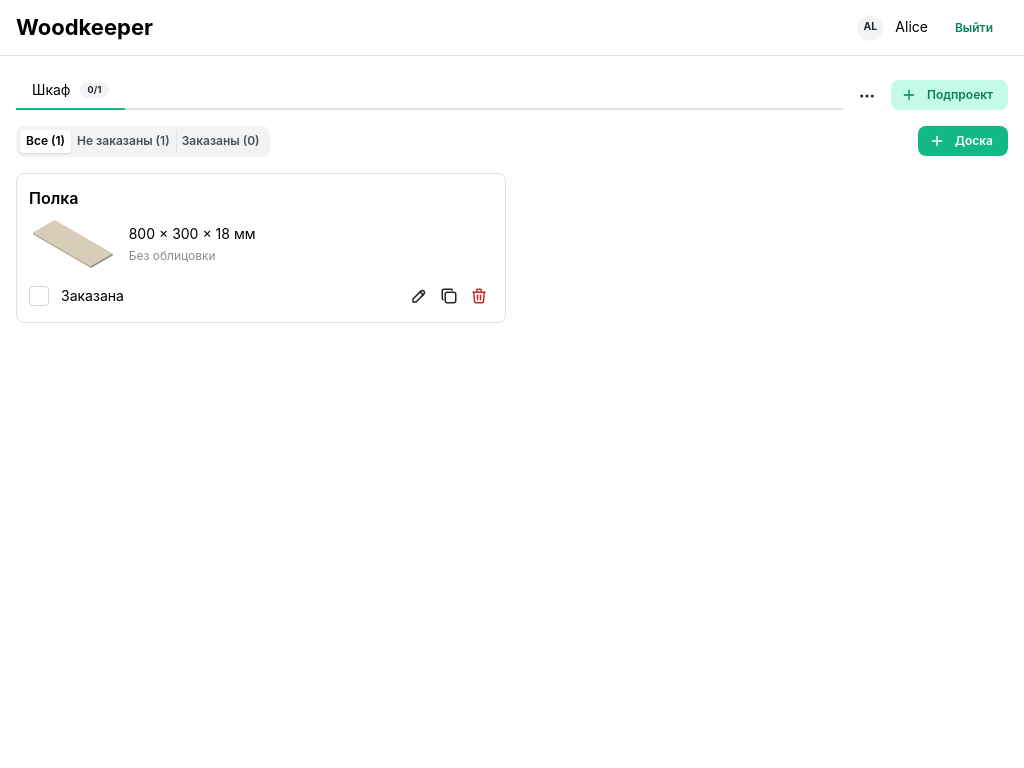
Test case: BoardCard › deletes only after confirmation
This screenshot has width=1024, height=768.
Click the button named "Удалить" at (479, 296), box [465,282,493,310]
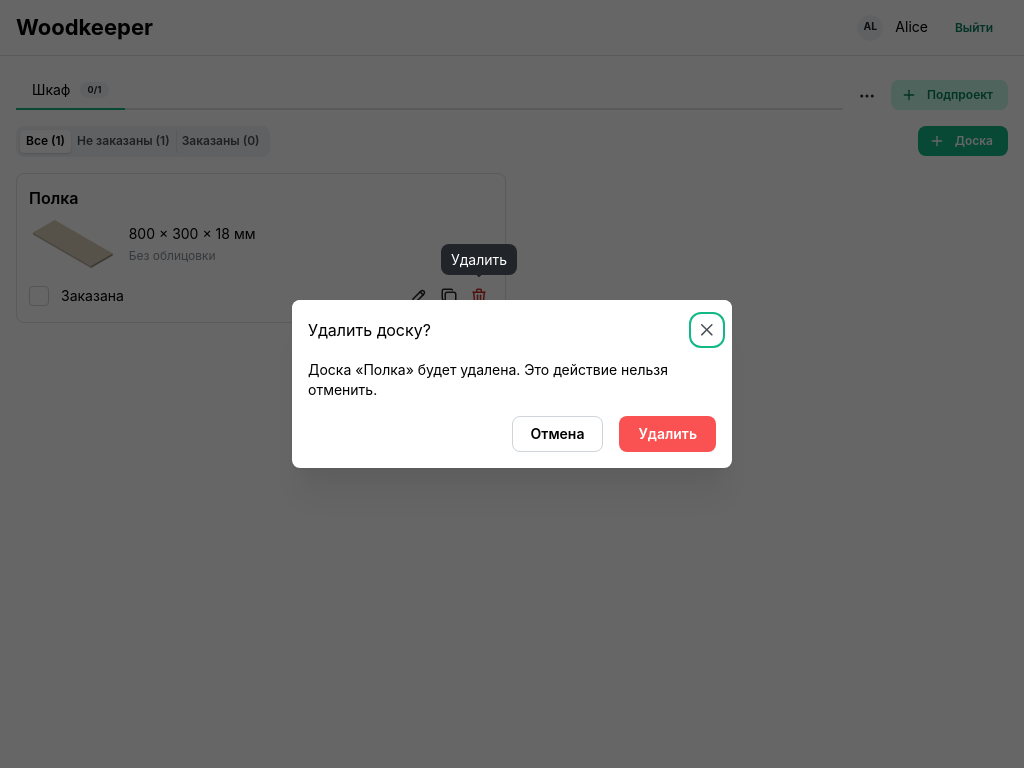
Check: the text "Доска «Полка» будет удалена. Это действие нельзя отменить." is shown, box [308,360,716,400]
Click the button "Отмена" at (558, 434), box [512,416,604,452]
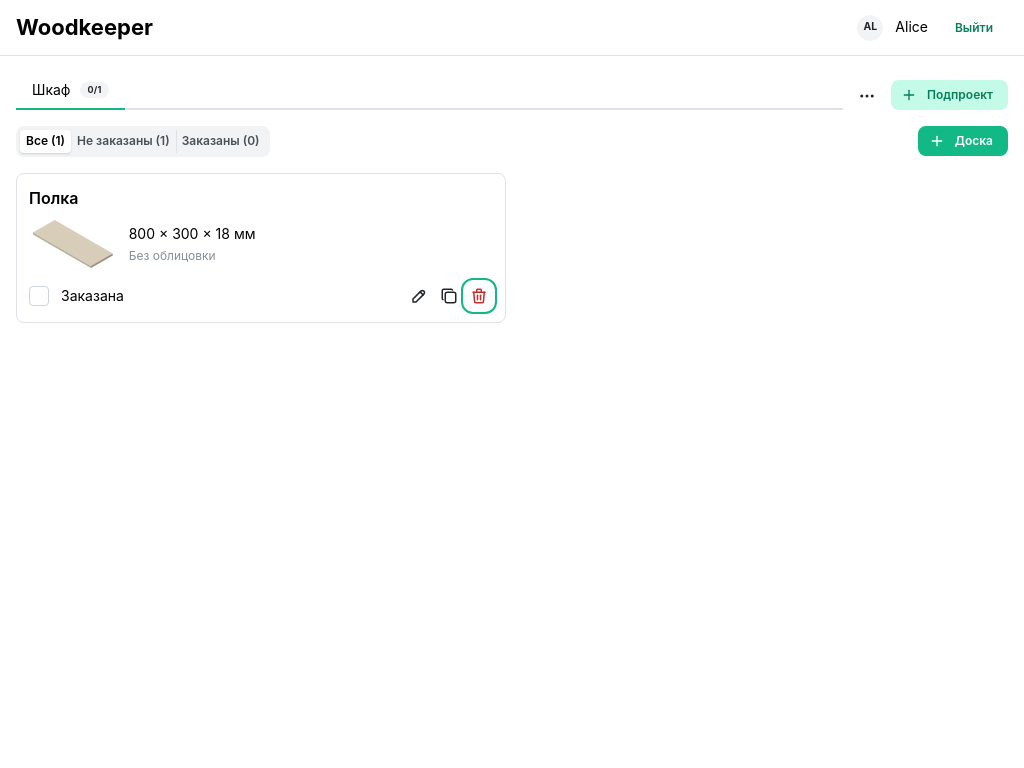
Check: the dialog is gone
Click the button named "Удалить" at (479, 296), box [465,282,493,310]
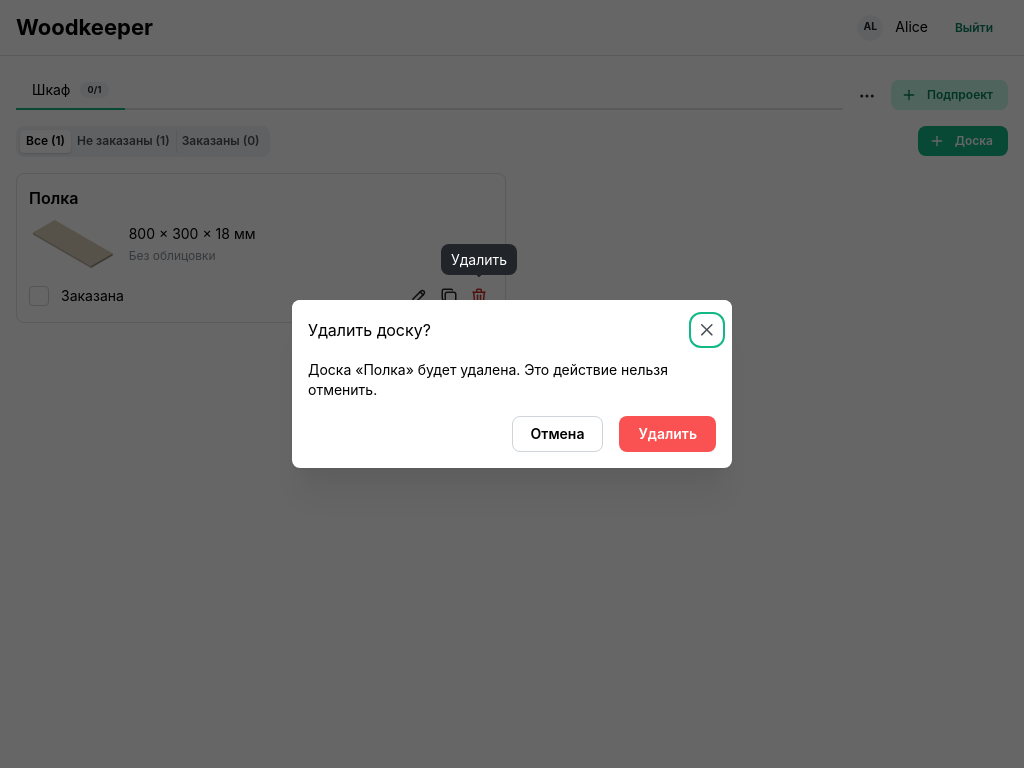
Click the button "Удалить" at (668, 434), box [619,416,716,452]
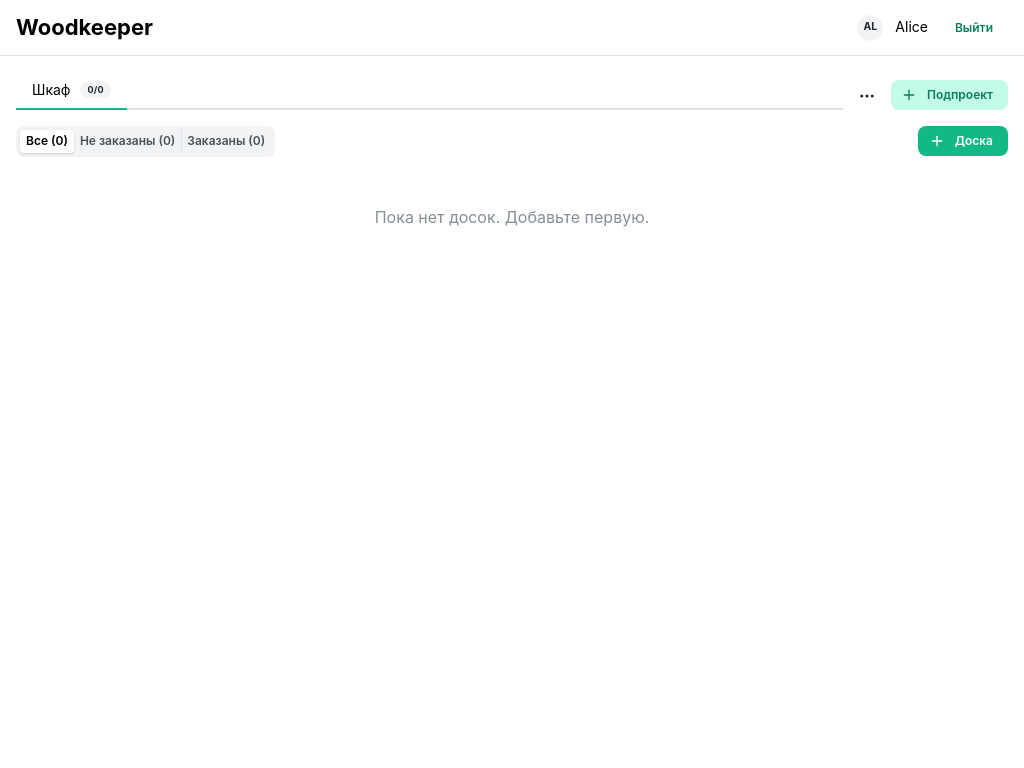
Check: the text "Пока нет досок. Добавьте первую." is shown, box [375,205,649,229]
